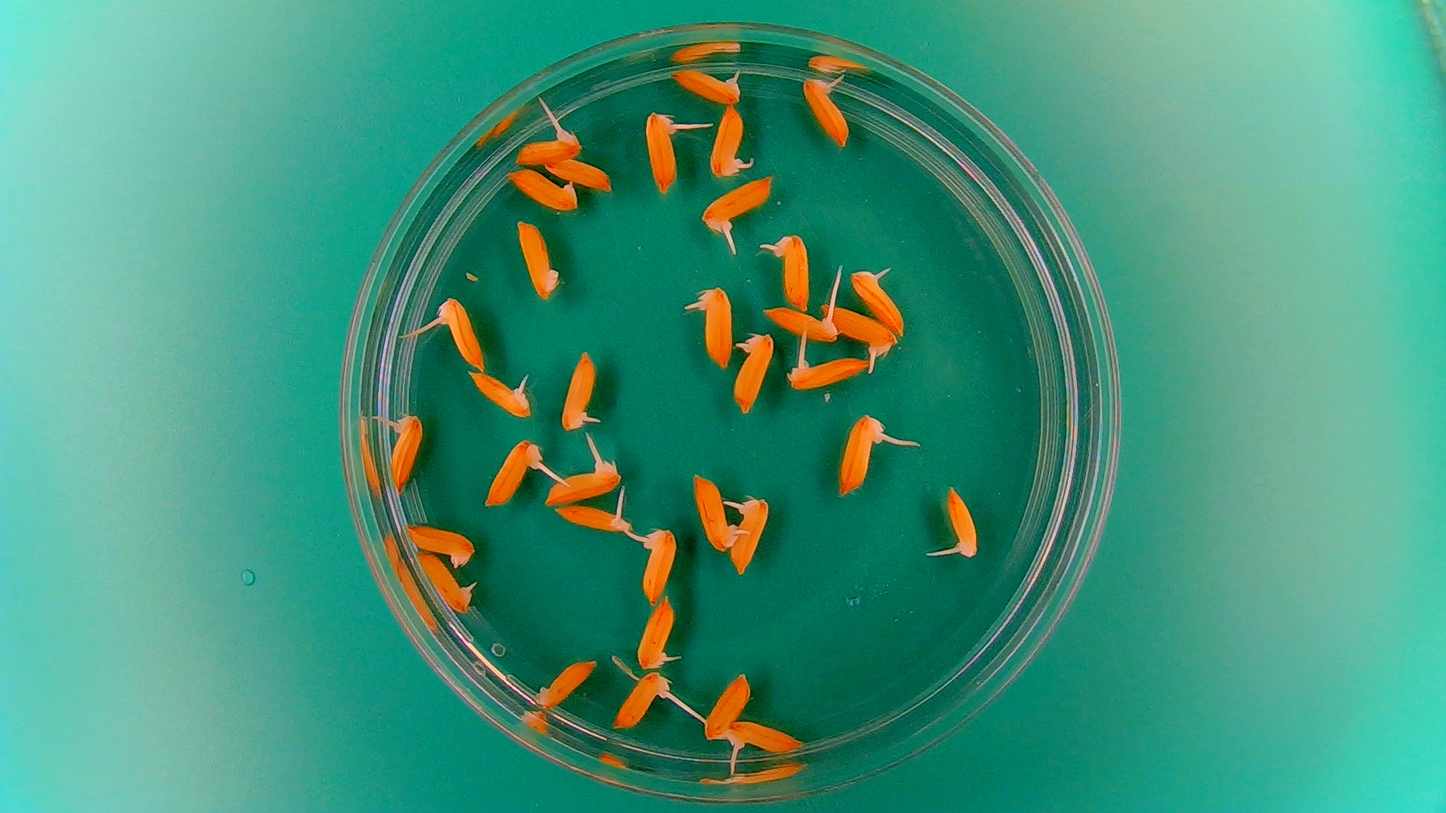no: (514, 216, 563, 302), (700, 665, 752, 744), (402, 520, 480, 568), (532, 656, 599, 711), (505, 166, 578, 212), (541, 154, 615, 192)
yes: (835, 408, 896, 501), (691, 469, 742, 554), (850, 266, 908, 338), (481, 433, 537, 507), (819, 303, 898, 355), (703, 174, 776, 230), (730, 329, 776, 416), (435, 294, 487, 370), (729, 490, 773, 579), (636, 522, 681, 607), (784, 349, 870, 392), (560, 347, 602, 435), (708, 102, 755, 180), (801, 78, 852, 149), (413, 553, 472, 614), (386, 408, 426, 496), (694, 289, 737, 370), (541, 461, 620, 505), (467, 368, 534, 419), (643, 108, 681, 192), (615, 668, 666, 729), (760, 303, 839, 342), (671, 65, 746, 106), (773, 236, 813, 311), (635, 595, 674, 671), (551, 500, 635, 534), (719, 723, 802, 757), (512, 129, 579, 165), (944, 488, 979, 555)
